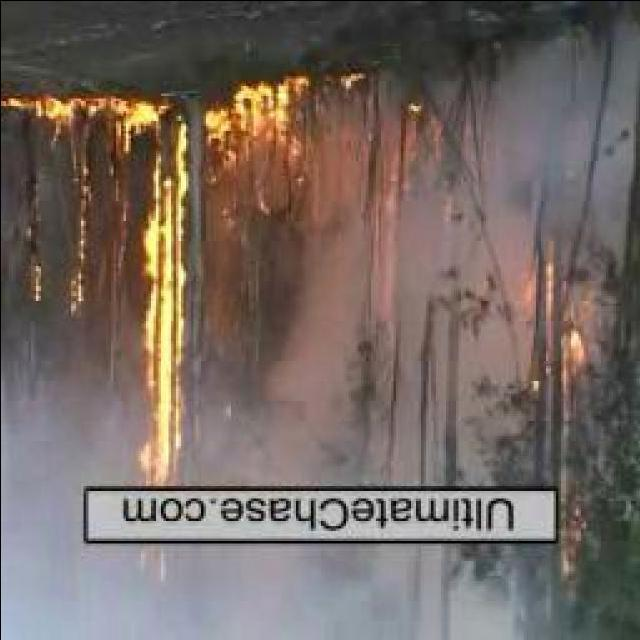Fire: (120, 91, 180, 554), (200, 80, 330, 168), (386, 96, 424, 222), (0, 89, 84, 145), (533, 308, 588, 392)
